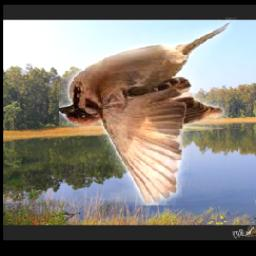Cuckoo: (240, 209, 256, 237)
Sparrow: (58, 17, 236, 205)
